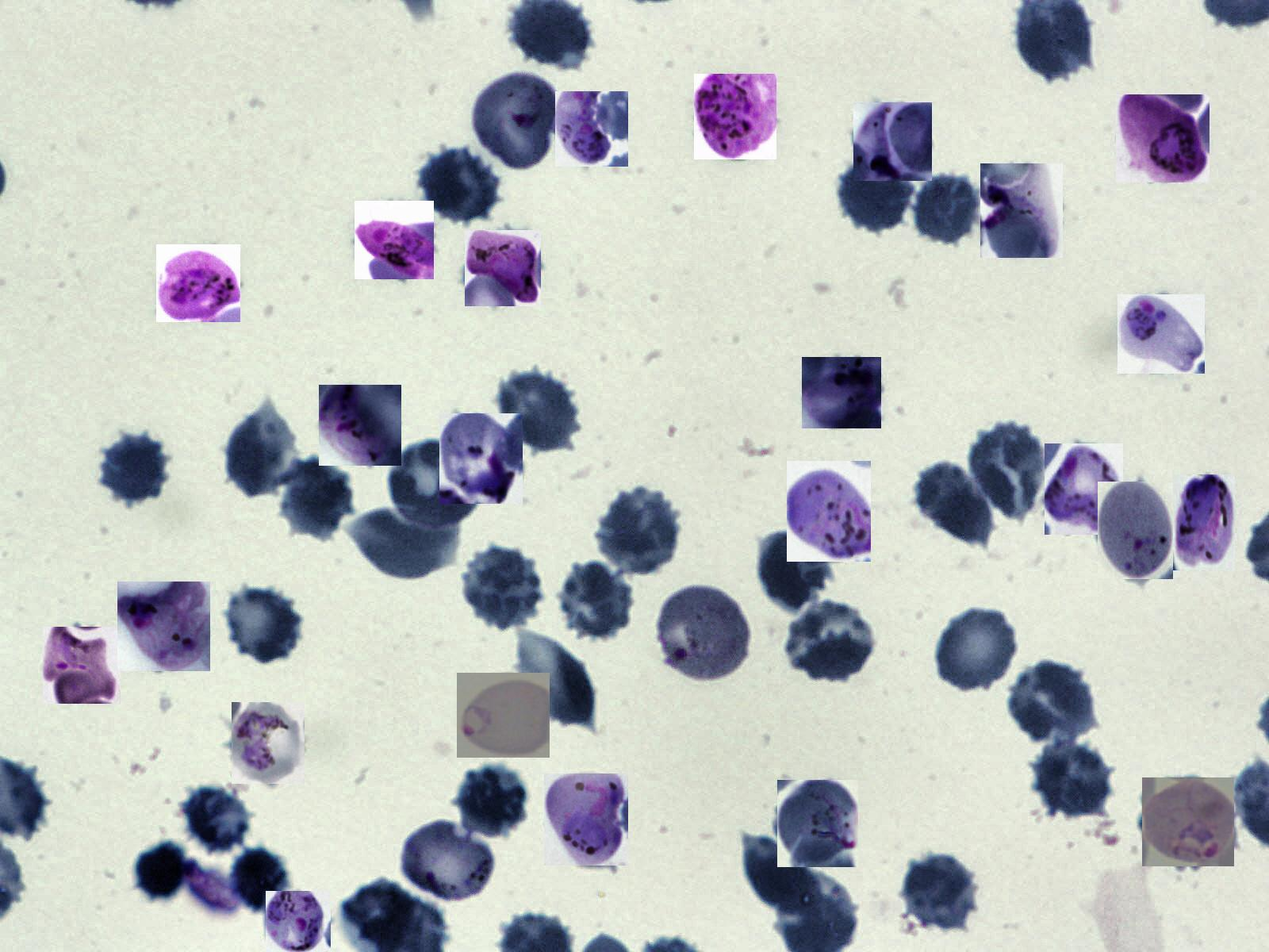Infected: (654, 582, 756, 684), (471, 69, 562, 173), (787, 461, 871, 562), (395, 820, 496, 903), (117, 582, 210, 672), (1116, 94, 1210, 182), (1142, 777, 1234, 866), (457, 673, 550, 758), (980, 163, 1063, 258), (544, 774, 628, 866), (439, 413, 523, 504), (1098, 482, 1173, 579), (1045, 443, 1123, 535), (777, 780, 858, 867), (694, 74, 776, 159), (1118, 294, 1205, 374), (319, 385, 401, 466), (156, 244, 240, 322), (853, 102, 932, 181), (355, 201, 434, 279), (43, 627, 121, 704), (232, 702, 305, 784), (1173, 474, 1235, 570), (465, 230, 541, 306), (802, 357, 881, 428), (555, 91, 628, 167), (266, 891, 331, 952)
Uninfected: (389, 438, 484, 528), (347, 504, 456, 580), (968, 420, 1052, 516), (512, 631, 596, 727), (932, 603, 1022, 692), (595, 487, 681, 575), (786, 601, 877, 681), (1007, 663, 1097, 743), (223, 405, 298, 498), (496, 369, 580, 451), (220, 584, 304, 665), (462, 545, 542, 628), (899, 852, 980, 933), (916, 463, 995, 544), (756, 528, 832, 612), (555, 560, 635, 639), (1035, 741, 1113, 820), (279, 459, 354, 541), (838, 159, 916, 237), (421, 145, 500, 220), (458, 762, 531, 838), (913, 169, 984, 246), (94, 432, 167, 506), (182, 781, 252, 856), (232, 845, 293, 917)
